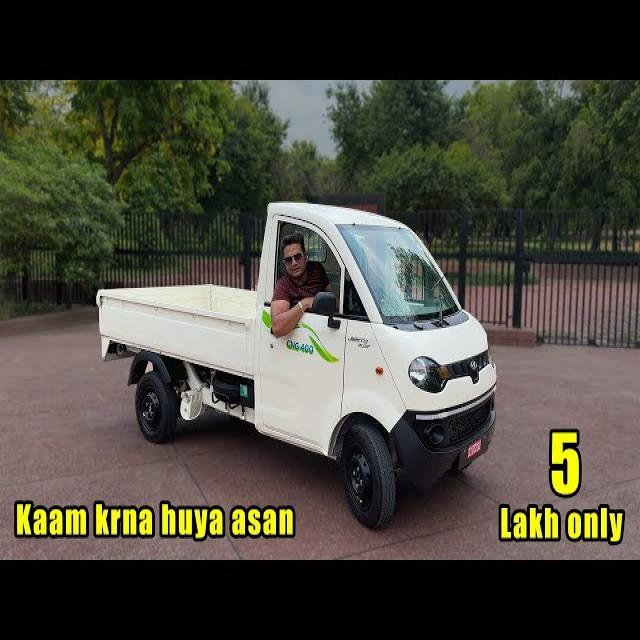truck: (98, 203, 496, 528)
